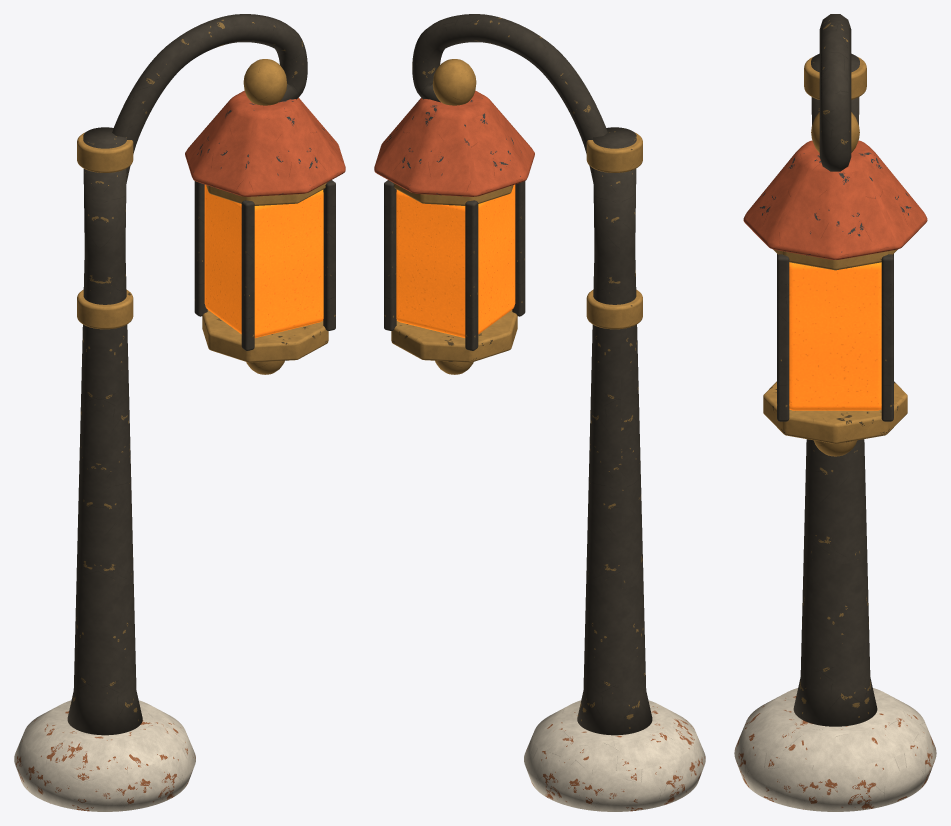
File: S4_路灯_分享包版.glb
3 renders of one model, left to right at view 1: azimuth 30°, elevation 25°; view 2: azimuth 150°, elevation 25°; view 3: azimuth 270°, elevation 25°, orthographic. The views are drawn at different scales.
Visible parts, largest first — view 1: Tapered old metal post, Ivory weighted base, Warm amber lantern, Coral lantern roof, Scrolled lantern arm, Lantern brass rim, Lantern iron frame, Lantern iron frame.002, Lantern finial, Brass pole collar.002, Brass pole collar.003, Lantern iron frame.001 (+1 smaller); view 2: Tapered old metal post, Ivory weighted base, Warm amber lantern, Coral lantern roof, Scrolled lantern arm, Lantern brass rim, Lantern iron frame.001, Lantern iron frame.003, Lantern finial, Brass pole collar.002, Brass pole collar.003, Lantern iron frame (+1 smaller); view 3: Tapered old metal post, Ivory weighted base, Coral lantern roof, Warm amber lantern, Scrolled lantern arm, Lantern brass rim, Lantern iron frame.002, Lantern iron frame.003, Lantern brass rim.001, Brass pole collar.003, Lantern finial, Lantern pendant.
Part boxes in pixels (x1,y1,x2,y2): Tapered old metal post: (67, 127, 142, 735); Ivory weighted base: (14, 700, 195, 811); Warm amber lantern: (204, 184, 323, 337); Coral lantern roof: (185, 90, 345, 196); Scrolled lantern arm: (112, 14, 307, 183); Lantern brass rim: (202, 310, 328, 362); Lantern iron frame: (241, 200, 254, 350); Lantern iron frame.002: (323, 180, 335, 330); Lantern finial: (243, 59, 287, 105); Brass pole collar.002: (77, 289, 133, 329); Brass pole collar.003: (77, 132, 133, 172); Lantern iron frame.001: (194, 181, 207, 316); Tapered old metal post: (577, 127, 652, 735); Ivory weighted base: (524, 700, 705, 811); Warm amber lantern: (396, 184, 515, 337); Coral lantern roof: (374, 90, 534, 196); Scrolled lantern arm: (412, 14, 607, 183); Lantern brass rim: (391, 310, 517, 362); Lantern iron frame.001: (465, 200, 478, 350); Lantern iron frame.003: (384, 180, 396, 330); Lantern finial: (432, 59, 476, 105); Brass pole collar.002: (586, 289, 642, 329); Brass pole collar.003: (586, 132, 642, 172); Lantern iron frame: (512, 181, 525, 316); Tapered old metal post: (793, 53, 877, 726); Ivory weighted base: (734, 688, 936, 811); Coral lantern roof: (743, 140, 927, 259); Warm amber lantern: (789, 262, 881, 410); Scrolled lantern arm: (819, 14, 851, 171); Lantern brass rim: (763, 381, 907, 443); Lantern iron frame.002: (777, 254, 789, 421); Lantern iron frame.003: (881, 254, 893, 421); Lantern brass rim.001: (773, 249, 897, 270); Brass pole collar.003: (804, 57, 866, 99); Lantern finial: (811, 112, 859, 152); Lantern pendant: (813, 440, 857, 456).
Size of the model in its own units: 1.14 by 2.56 by 0.58.
5 materials, 5 textured.
